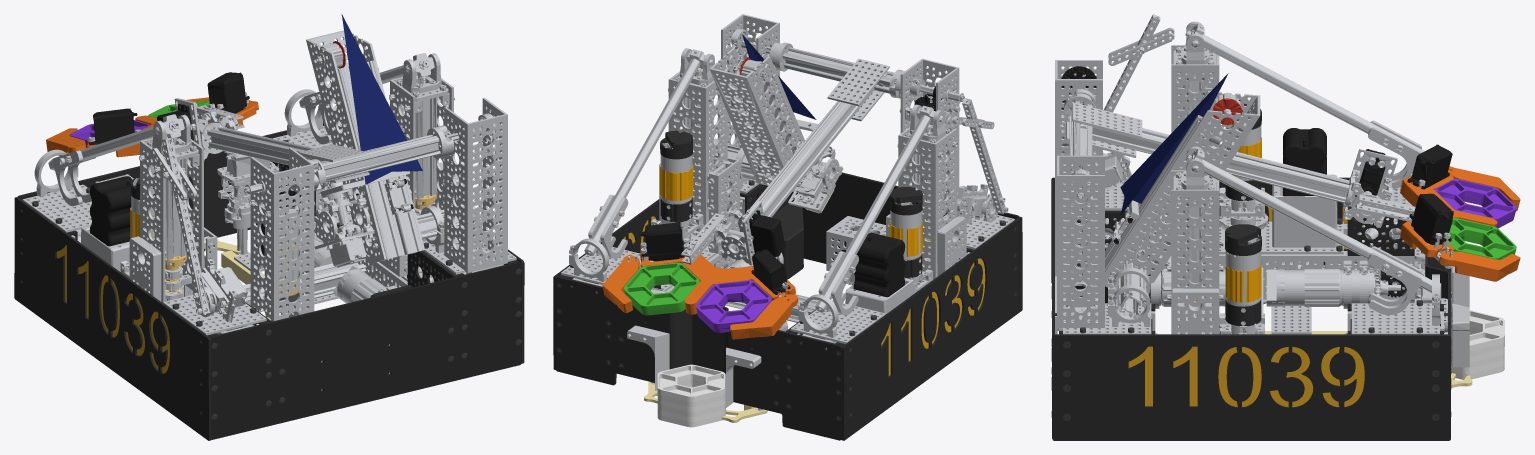
The model's file is cobra-v1.glb.
The picture shows the model from 3 angles, left to right: view 1: azimuth 30°, elevation 25°; view 2: azimuth 150°, elevation 25°; view 3: azimuth 270°, elevation 25°; orthographic projection. The views are drawn at different scales.
Parts seen in each view (by area): view 1: Body1, Body1_1192, Body2_90; view 2: Body1, Body1_1192, Body2_90, Body1_308; view 3: Body1, Body1_1192, Body2_90, Body1_308.
Boxes of the visible parts, bbox=[...] form: Body1: bbox=[22, 30, 516, 390]; Body1_1192: bbox=[14, 14, 524, 440]; Body2_90: bbox=[46, 72, 258, 246]; Body1: bbox=[561, 14, 1014, 411]; Body1_1192: bbox=[553, 34, 1022, 440]; Body2_90: bbox=[602, 210, 905, 339]; Body1_308: bbox=[657, 364, 725, 427]; Body1: bbox=[1055, 14, 1469, 367]; Body1_1192: bbox=[1051, 66, 1472, 440]; Body2_90: bbox=[1283, 128, 1520, 281]; Body1_308: bbox=[1451, 310, 1504, 379].
Size of the model in its own units: 0.3752 by 0.3592 by 0.4683.
Materials: 4 (4 with a texture image).
